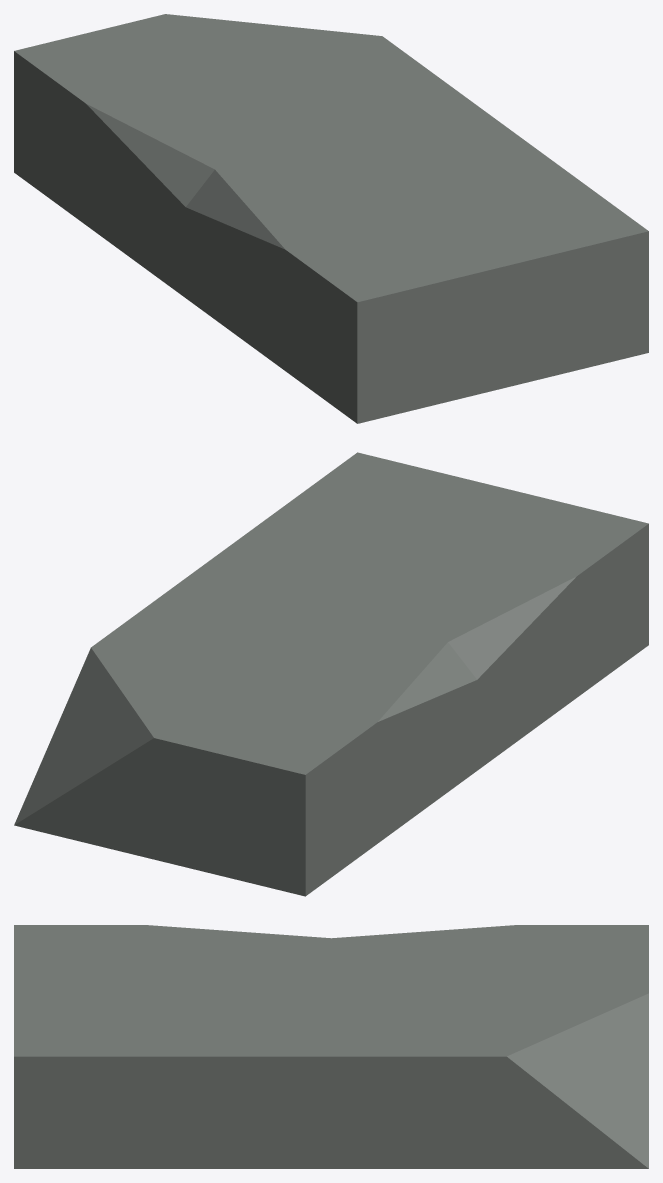
The model's file is SM_Env_Brick_05.fbx.
3 renders of one model, top to bottom at view 1: azimuth 30°, elevation 25°; view 2: azimuth 150°, elevation 25°; view 3: azimuth 270°, elevation 25°, orthographic. The views are drawn at different scales.
Parts seen in each view (by area): view 1: SM_Env_Brick_05; view 2: SM_Env_Brick_05; view 3: SM_Env_Brick_05.
Boxes of the visible parts, <box> form: SM_Env_Brick_05: <box>14,14,648,423</box>; SM_Env_Brick_05: <box>14,452,648,896</box>; SM_Env_Brick_05: <box>14,925,648,1168</box>.
Size of the model in its own units: 38.94 by 15.53 by 79.48.
1 material, 1 textured.
